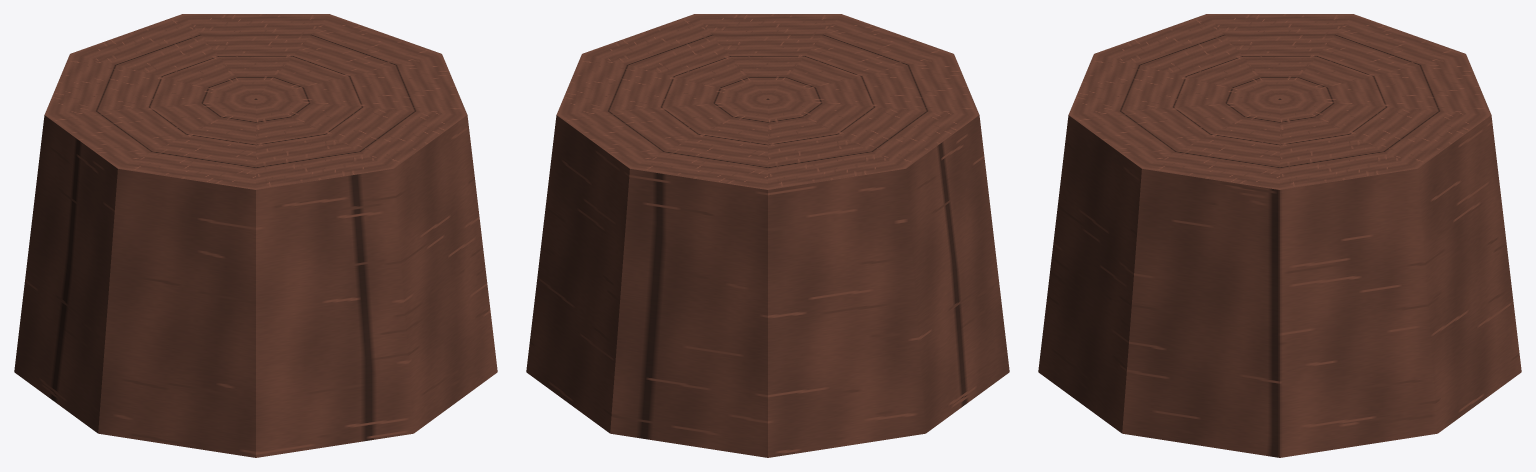
The model's file is stump.glb.
3 renders of one model, left to right at view 1: azimuth 30°, elevation 25°; view 2: azimuth 150°, elevation 25°; view 3: azimuth 270°, elevation 25°, orthographic.
Visible parts, largest first — view 1: 0_woodTex; view 2: 0_woodTex; view 3: 0_woodTex.
Boxes of the visible parts, bbox=[...] form: 0_woodTex: bbox=[14, 14, 497, 457]; 0_woodTex: bbox=[526, 14, 1009, 457]; 0_woodTex: bbox=[1038, 14, 1521, 457].
Bounding box in the file's own units: 0.9311 × 0.55 × 0.9454.
1 material, 1 textured.
